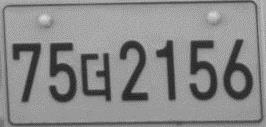1: (153, 37, 185, 102)
2: (117, 39, 151, 102)
5: (45, 40, 78, 104), (187, 39, 219, 100)
6: (221, 37, 254, 101)
7: (10, 40, 42, 104)
더: (78, 51, 113, 103)
